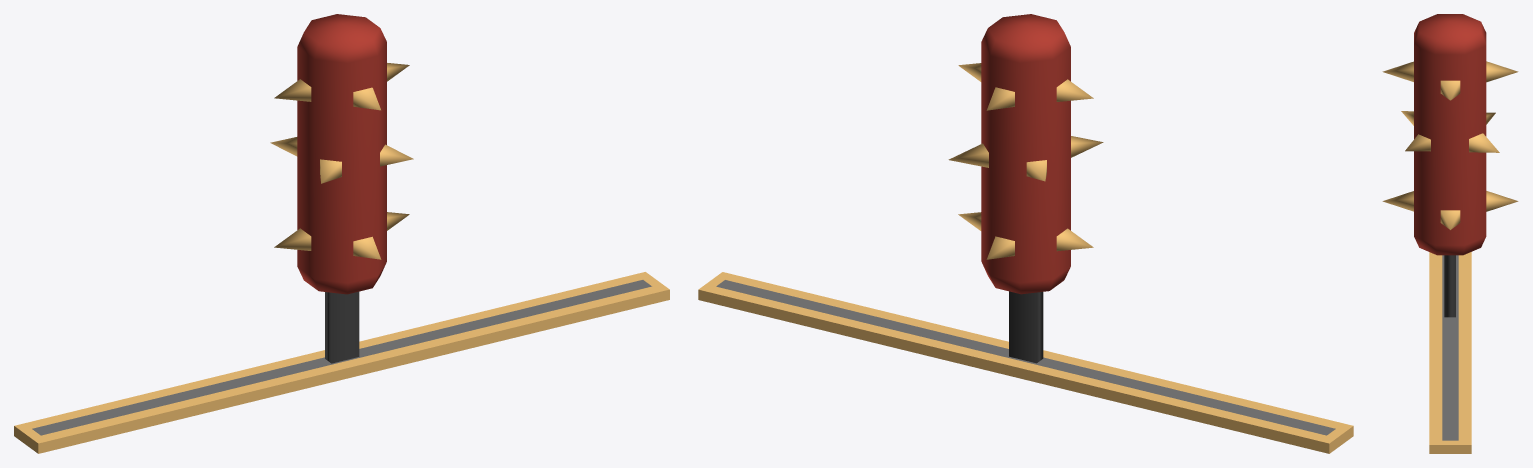
The model's file is tru di dong.fbx.
3 renders of one model, left to right at view 1: azimuth 30°, elevation 25°; view 2: azimuth 150°, elevation 25°; view 3: azimuth 270°, elevation 25°, orthographic. The views are drawn at different scales.
Visible parts, largest first — view 1: tru_gai, chan_de; view 2: tru_gai, chan_de; view 3: tru_gai, chan_de.
Boxes of the visible parts, x1,y1,x2,y2 form: tru_gai: (270, 14, 413, 363); chan_de: (14, 272, 669, 453); tru_gai: (948, 14, 1103, 363); chan_de: (698, 272, 1353, 453); tru_gai: (1382, 14, 1518, 317); chan_de: (1429, 252, 1471, 453).
Size of the model in its own units: 269 by 140 by 58.25.
